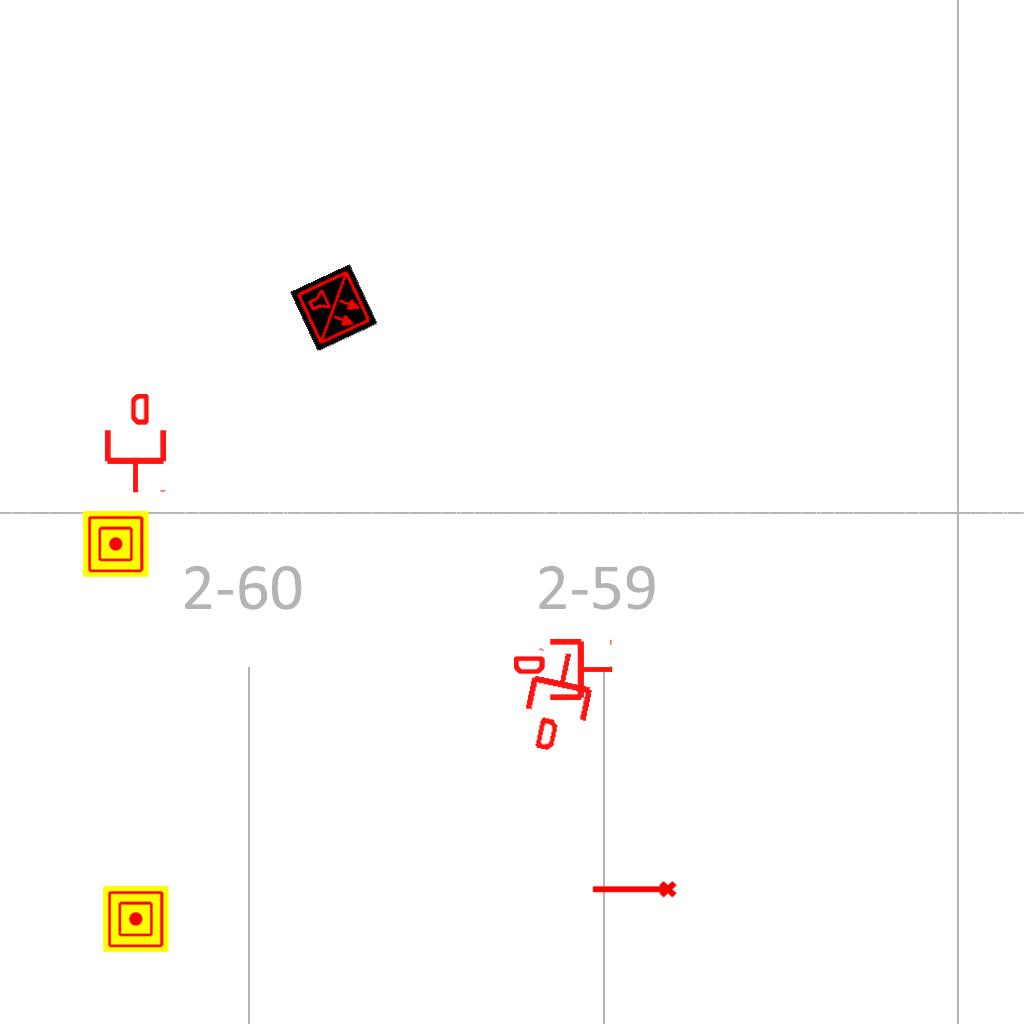ASR_Ansaugoeffnung: (590, 879, 678, 902)
Datenanschluss_einfach: (514, 644, 603, 758), (101, 394, 170, 494), (514, 635, 614, 704)
NAM-Nichtautomatischer_Melder: (83, 511, 149, 577), (103, 886, 169, 952)
OKW_Multisensormelder_(Kombination_optischer_Rauch-Kahlenmonoxid_Waerme-Melder): (290, 264, 378, 352)
